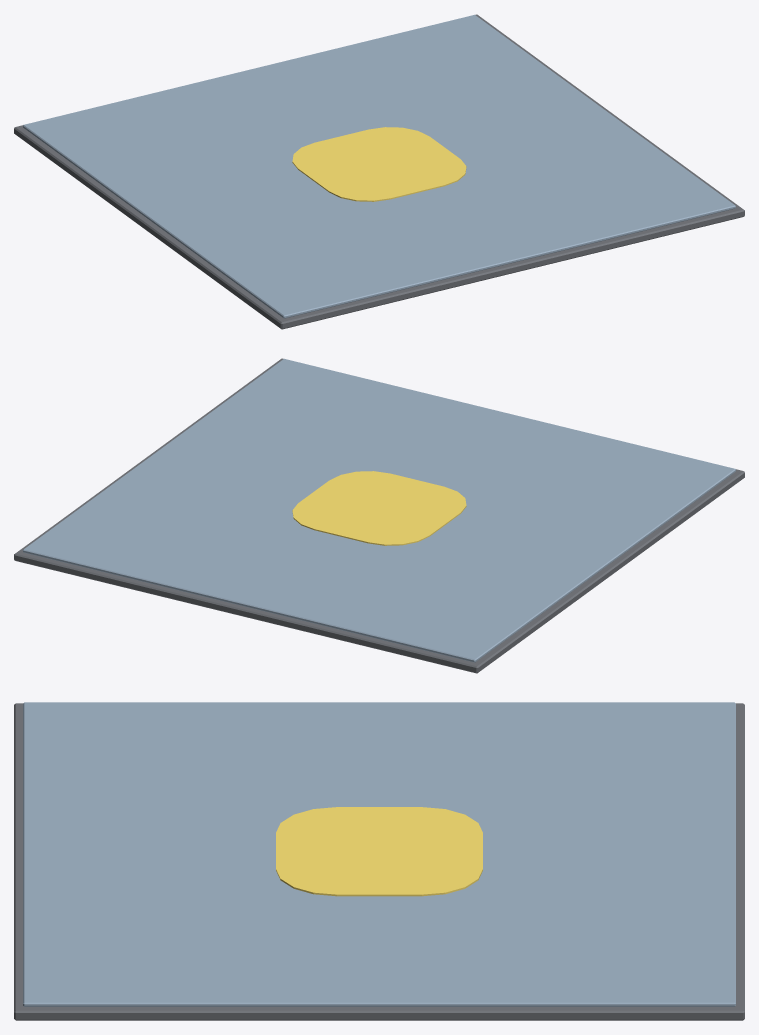
File: nursery-and-primary-classroom-classroom-floor-tile-car-954f3a42__35025.glb
3 views of the same model, one above another, from view 1: azimuth 30°, elevation 25°; view 2: azimuth 150°, elevation 25°; view 3: azimuth 270°, elevation 25° (orthographic). The views are drawn at different scales.
Visible parts, largest first — view 1: classroom-floor-tile-carpet; view 2: classroom-floor-tile-carpet; view 3: classroom-floor-tile-carpet.
Part boxes in pixels (x1=…): classroom-floor-tile-carpet: x1=14, y1=14, x2=744, y2=329; classroom-floor-tile-carpet: x1=14, y1=358, x2=744, y2=673; classroom-floor-tile-carpet: x1=14, y1=702, x2=744, y2=1020.
Bounding box in the file's own units: 1.2 × 0.029 × 1.2.
